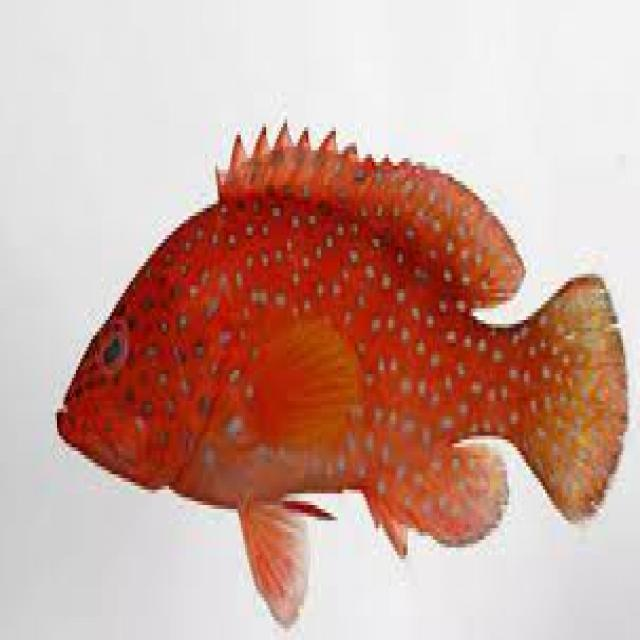Plectropomus-leopardus: (56, 125, 628, 632)
